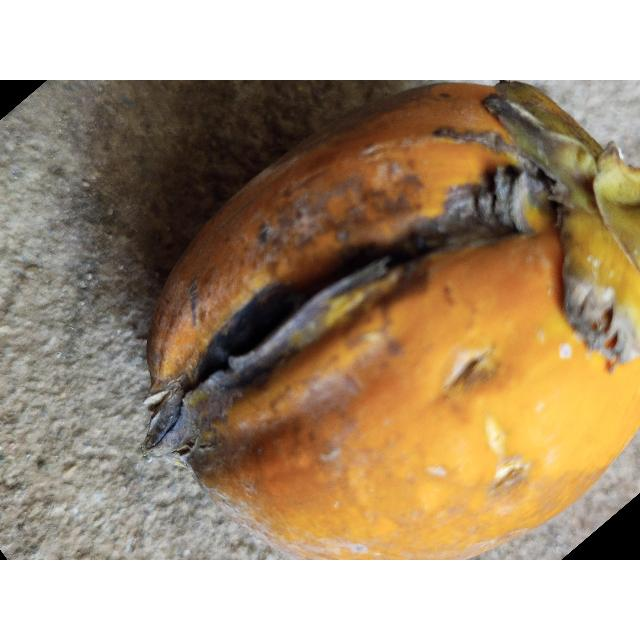damaged: (144, 83, 640, 559)
